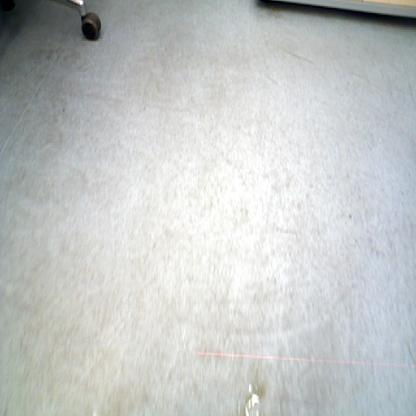liquid: (237, 366, 266, 416)
mark: (284, 48, 316, 66), (264, 72, 279, 86), (347, 211, 354, 222), (142, 105, 148, 113), (62, 106, 66, 114)
